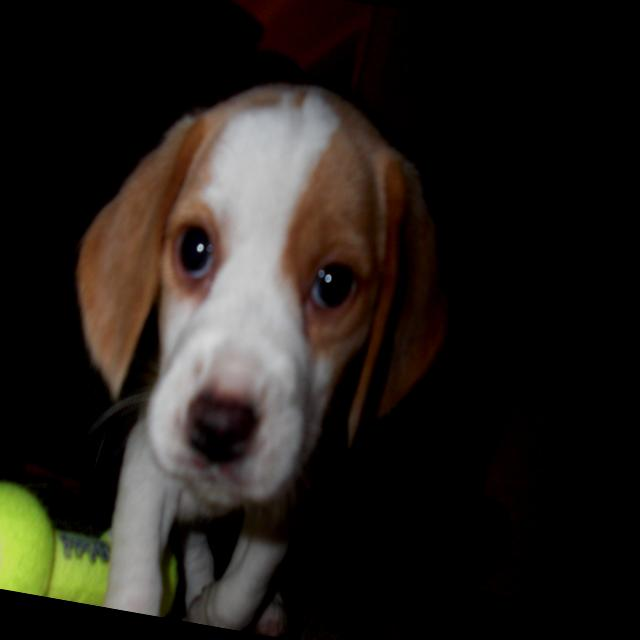Tennis Ball: (0, 471, 65, 596)
